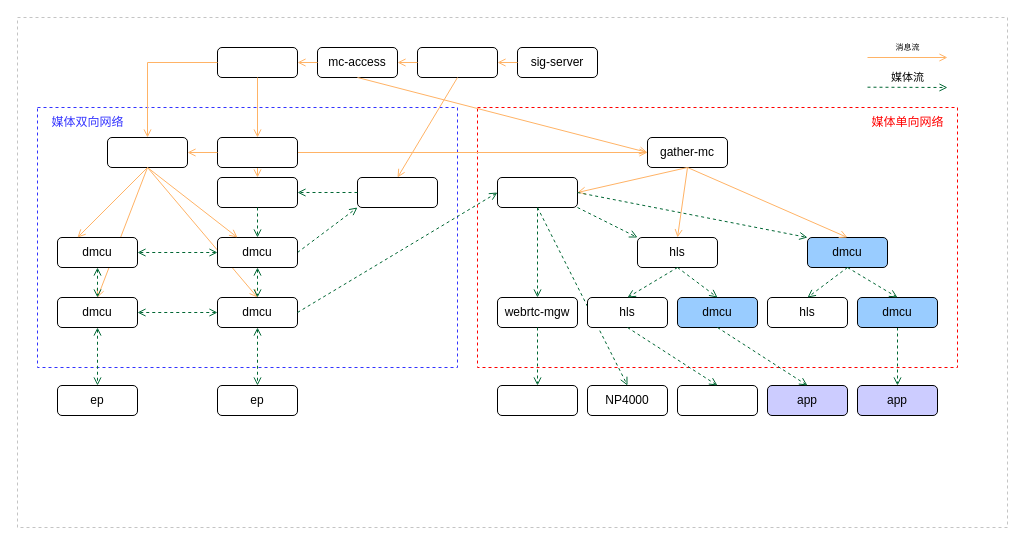
This 1025x545 diagram has some shape labels left out. Each missing label, with the centre of its shape:
gather-dmcu: point (537, 192)
H5: point (717, 400)
ma: point (257, 192)
mc: point (147, 152)
rm: point (457, 62)
rs: point (397, 192)
shuttle: point (257, 152)
surv-sig: point (257, 62)
webrtc-client: point (537, 400)
